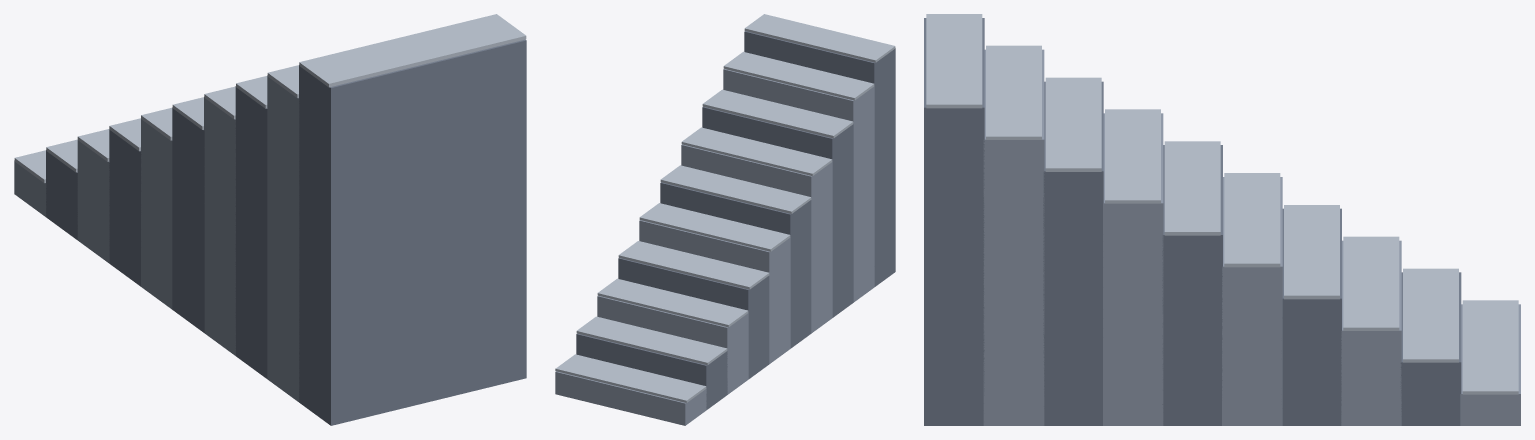
Rendered from stairs-lite.glb.
3 views of the same model, side by side, from view 1: azimuth 30°, elevation 25°; view 2: azimuth 150°, elevation 25°; view 3: azimuth 270°, elevation 25° (orthographic). The views are drawn at different scales.
Parts seen in each view (by area): view 1: stairs; view 2: stairs; view 3: stairs.
Boxes of the visible parts, x1=… form: stairs: x1=14, y1=14, x2=526, y2=425; stairs: x1=555, y1=14, x2=895, y2=425; stairs: x1=924, y1=14, x2=1520, y2=425.
Size of the model in its own units: 1.01 by 1.67 by 2.8.
